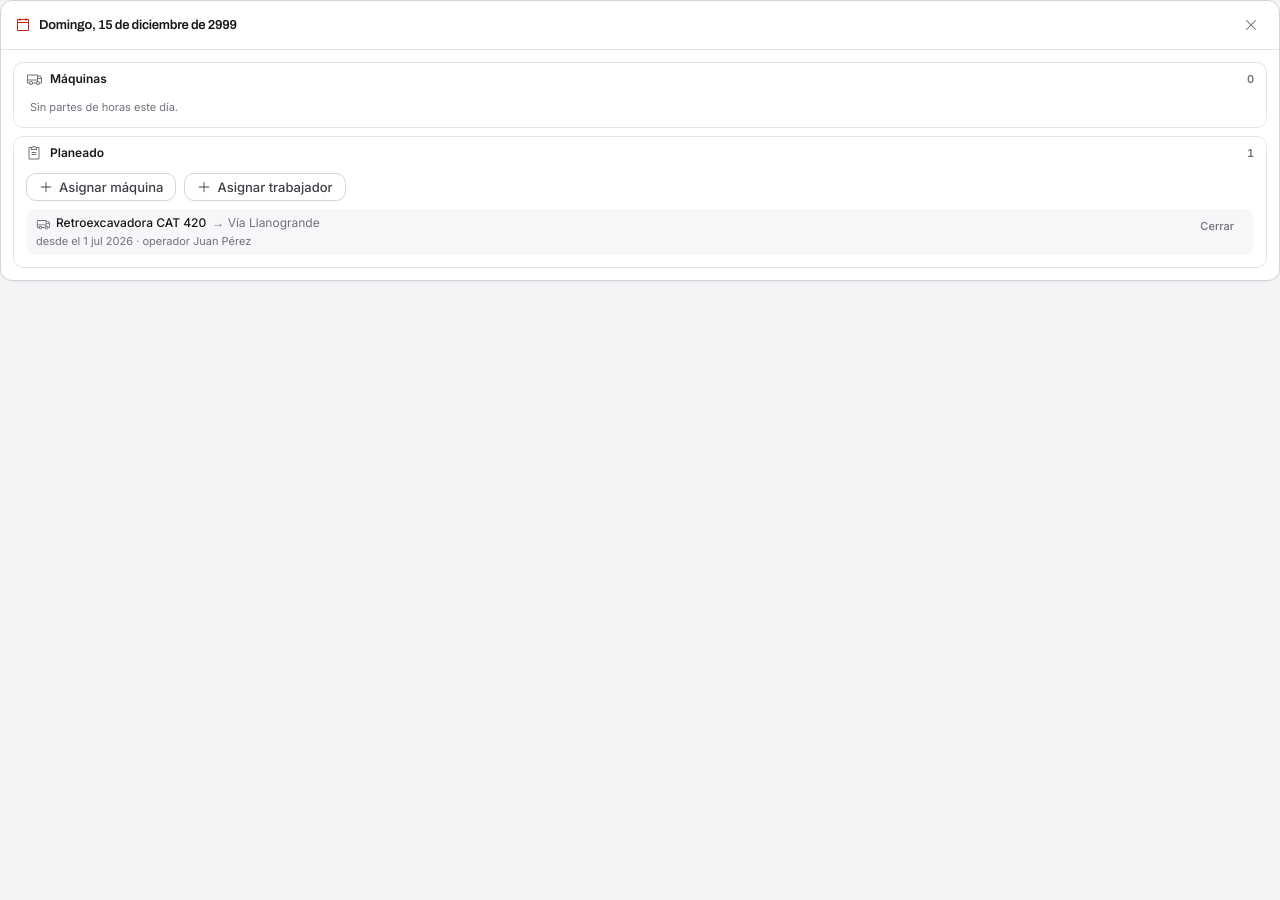
DetalleDia — asignación en Planeado por rol › el admin ve los botones y el form de asignar máquina se despliega
Expected: the button "Asignar trabajador" is shown, [184,173,346,201]
Click the button "Asignar máquina" at (101, 187), box [26,173,176,201]
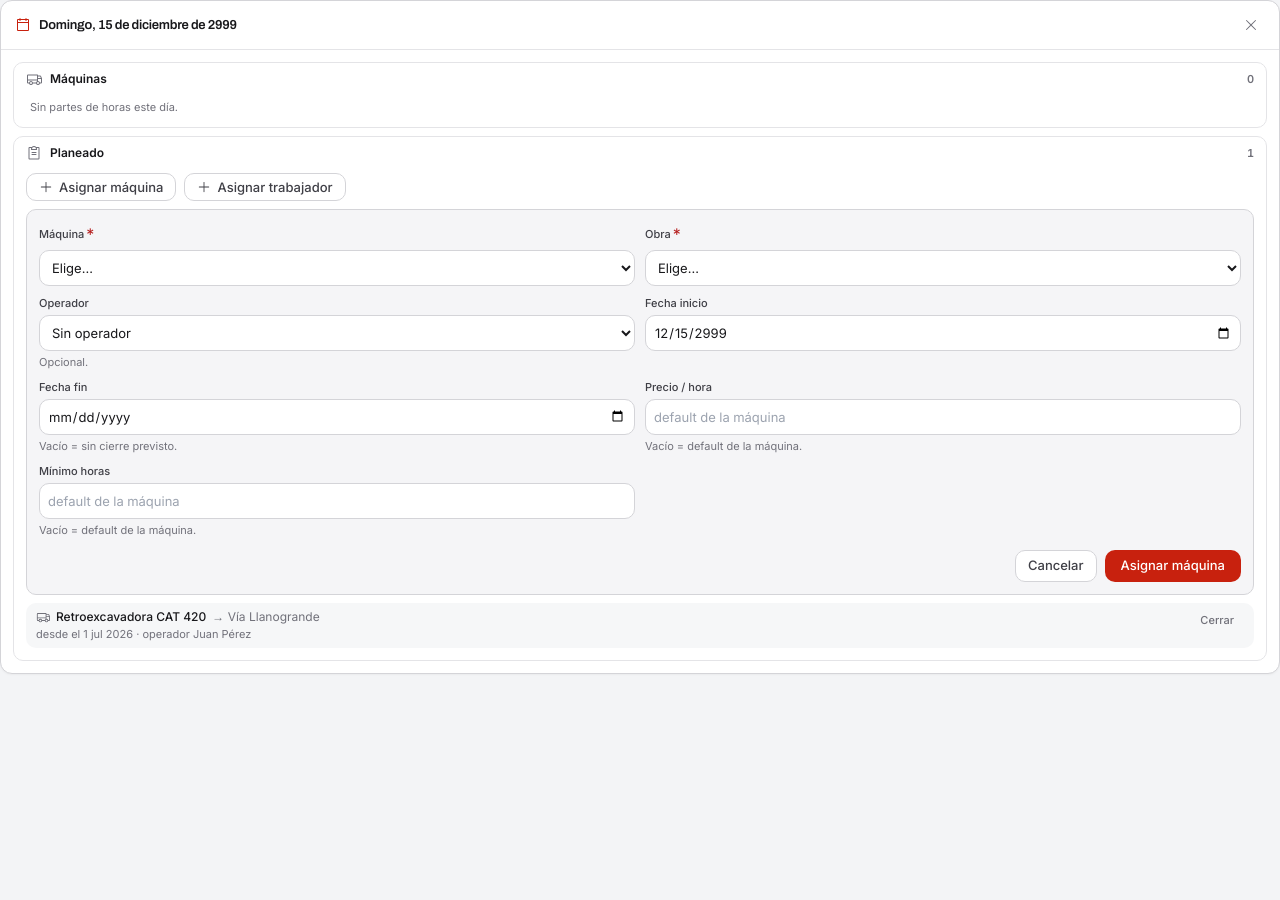
Now the number field labelled "Precio / hora" is shown, box [645,399,1241,435]
